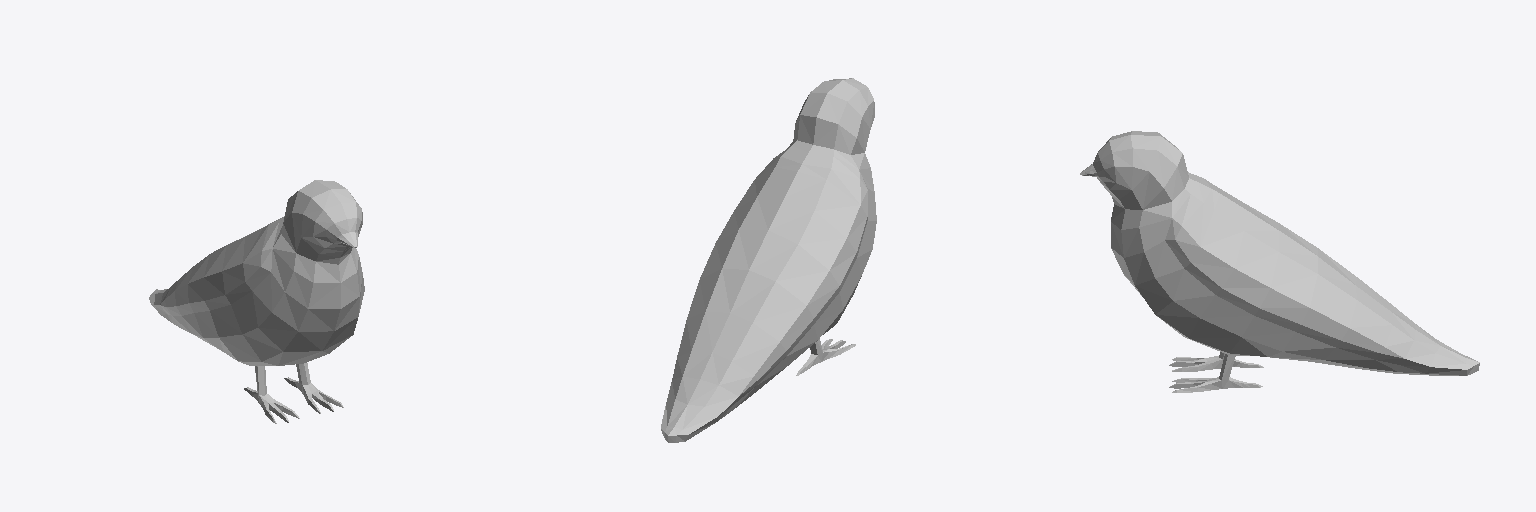
Rendered from CliffSwallow.obj.
The picture shows the model from 3 angles: view 1: azimuth 30°, elevation 25°; view 2: azimuth 150°, elevation 25°; view 3: azimuth 270°, elevation 25°; orthographic projection.
Parts seen in each view (by area): view 1: CliffSwallow_Mesh; view 2: CliffSwallow_Mesh; view 3: CliffSwallow_Mesh.
Boxes of the visible parts, <box> form: CliffSwallow_Mesh: <box>149,180,364,423</box>; CliffSwallow_Mesh: <box>661,78,876,442</box>; CliffSwallow_Mesh: <box>1080,131,1479,392</box>.
Bounding box in the file's own units: 0.7101 × 1.34 × 2.